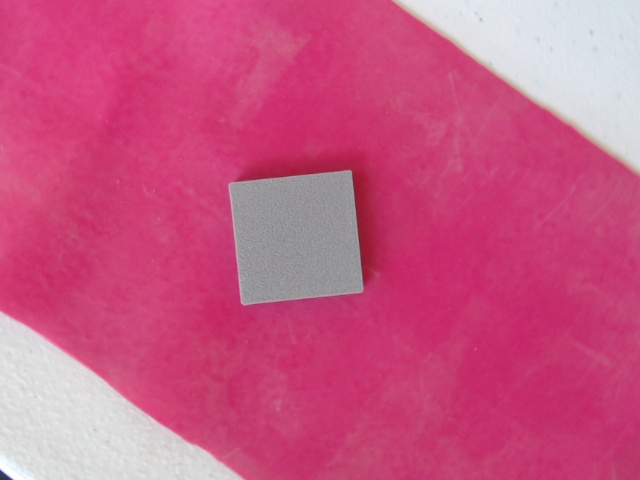Defective: (226, 168, 370, 310)
